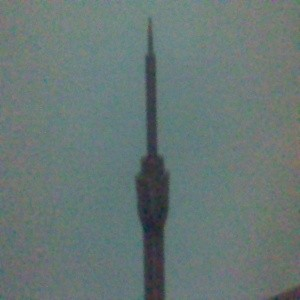solder: (134, 16, 172, 300)
